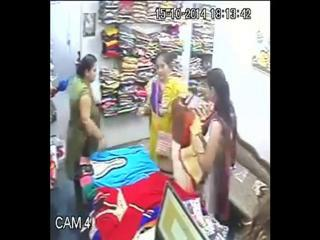Normal: (64, 54, 106, 182), (144, 52, 188, 172)
